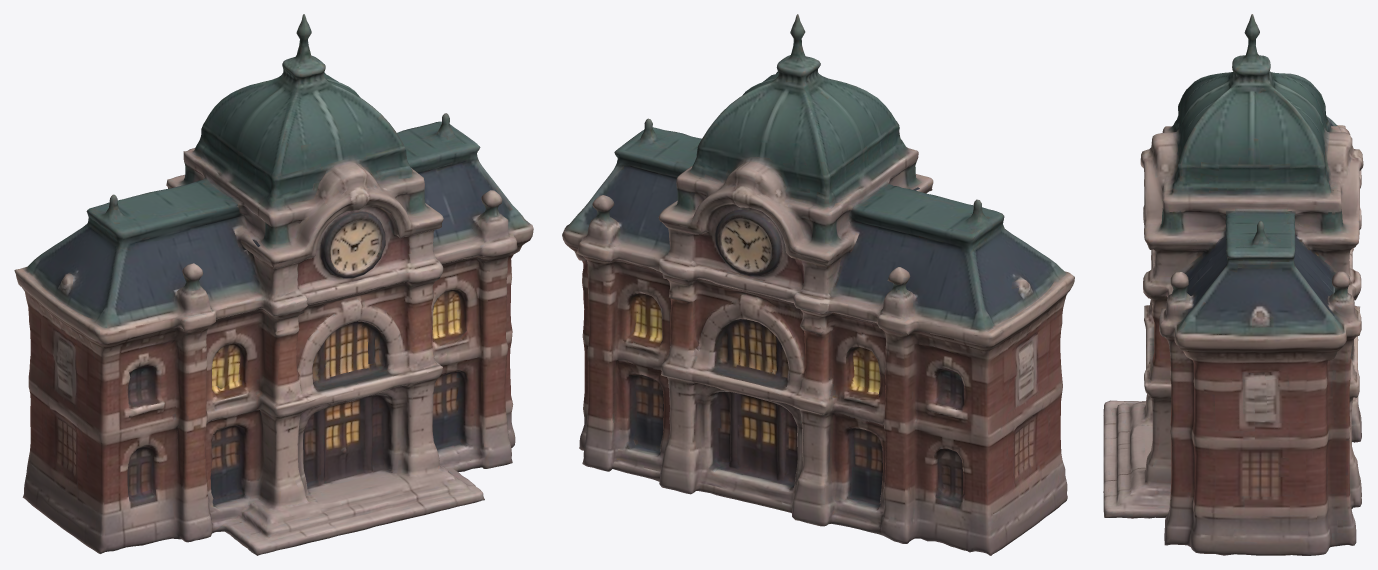
3 renders of one model, left to right at view 1: azimuth 30°, elevation 25°; view 2: azimuth 150°, elevation 25°; view 3: azimuth 270°, elevation 25°, orthographic.
Parts seen in each view (by area): view 1: tripo_node_0237cc0c; view 2: tripo_node_0237cc0c; view 3: tripo_node_0237cc0c.
Boxes of the visible parts, <box> form: tripo_node_0237cc0c: <box>14,14,533,555</box>; tripo_node_0237cc0c: <box>562,14,1074,555</box>; tripo_node_0237cc0c: <box>1103,14,1363,555</box>.
Size of the model in its own units: 0.9714 by 0.9635 by 0.5011.
